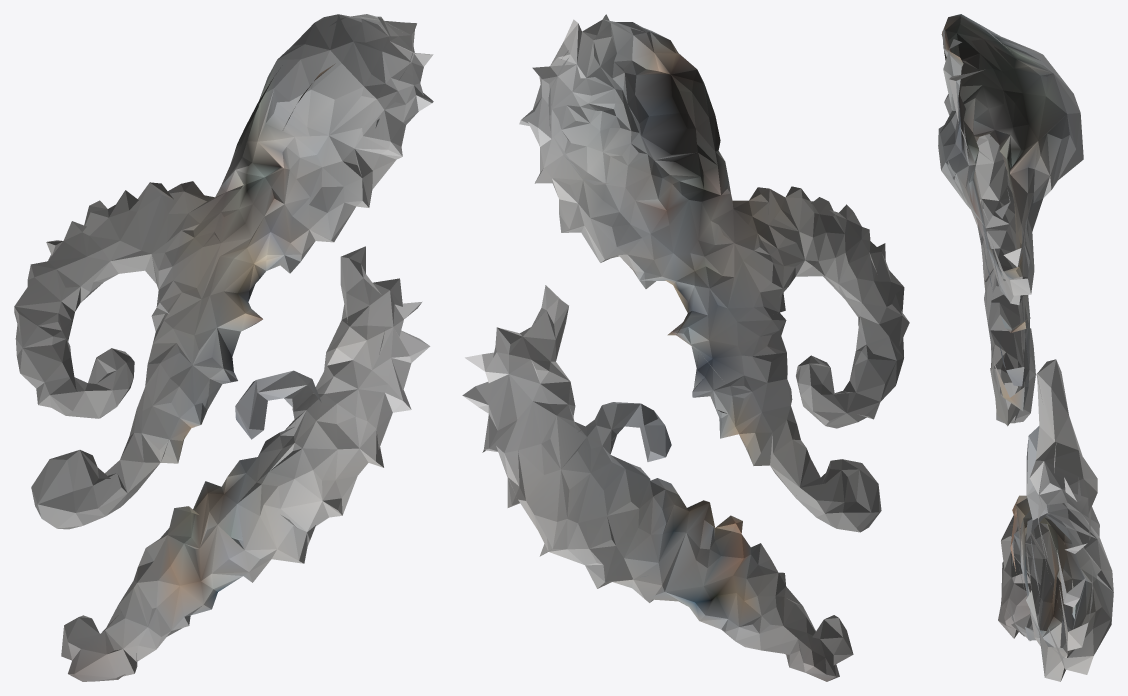
Rendered from creature-seahorse.glb.
3 views of the same model, side by side, from view 1: azimuth 30°, elevation 25°; view 2: azimuth 150°, elevation 25°; view 3: azimuth 270°, elevation 25° (orthographic). The views are drawn at different scales.
Parts seen in each view (by area): view 1: world; view 2: world; view 3: world.
Boxes of the visible parts, <box> form: world: <box>14,14,433,681</box>; world: <box>462,14,909,681</box>; world: <box>938,14,1113,681</box>.
Size of the model in its own units: 0.7952 by 1.06 by 0.2327.
